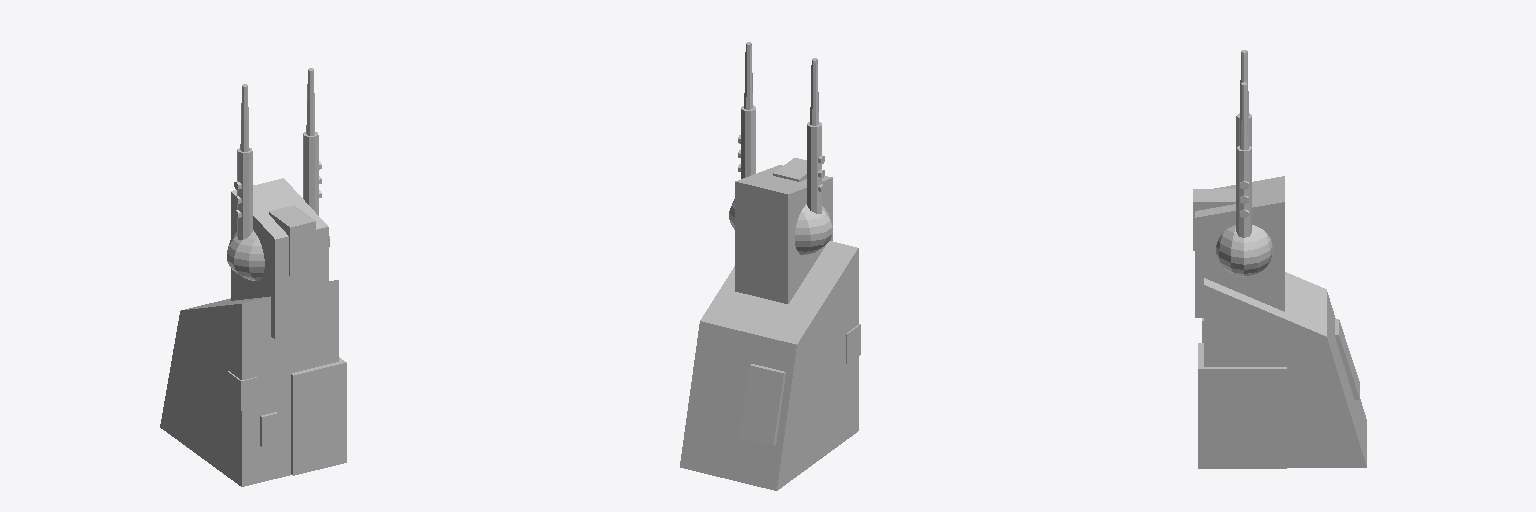
The model's file is turret together.obj.
3 views of the same model, side by side, from view 1: azimuth 30°, elevation 25°; view 2: azimuth 150°, elevation 25°; view 3: azimuth 270°, elevation 25° (orthographic).
Parts seen in each view (by area): view 1: polySurface2, polySurface1; view 2: polySurface2, polySurface1; view 3: polySurface2, polySurface1.
Part boxes in pixels (x1,y1,x2,y2): polySurface2: (160, 178, 346, 486); polySurface1: (227, 68, 329, 280); polySurface2: (680, 158, 860, 490); polySurface1: (729, 42, 832, 254); polySurface2: (1193, 176, 1366, 468); polySurface1: (1216, 50, 1272, 276).
Size of the model in its own units: 3.44 by 11.62 by 4.82.